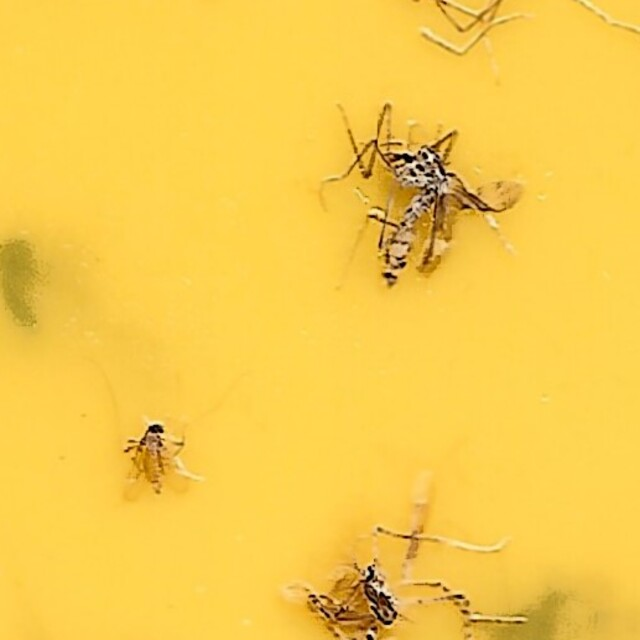Nematocera: (376, 137, 516, 304), (124, 417, 183, 503)
